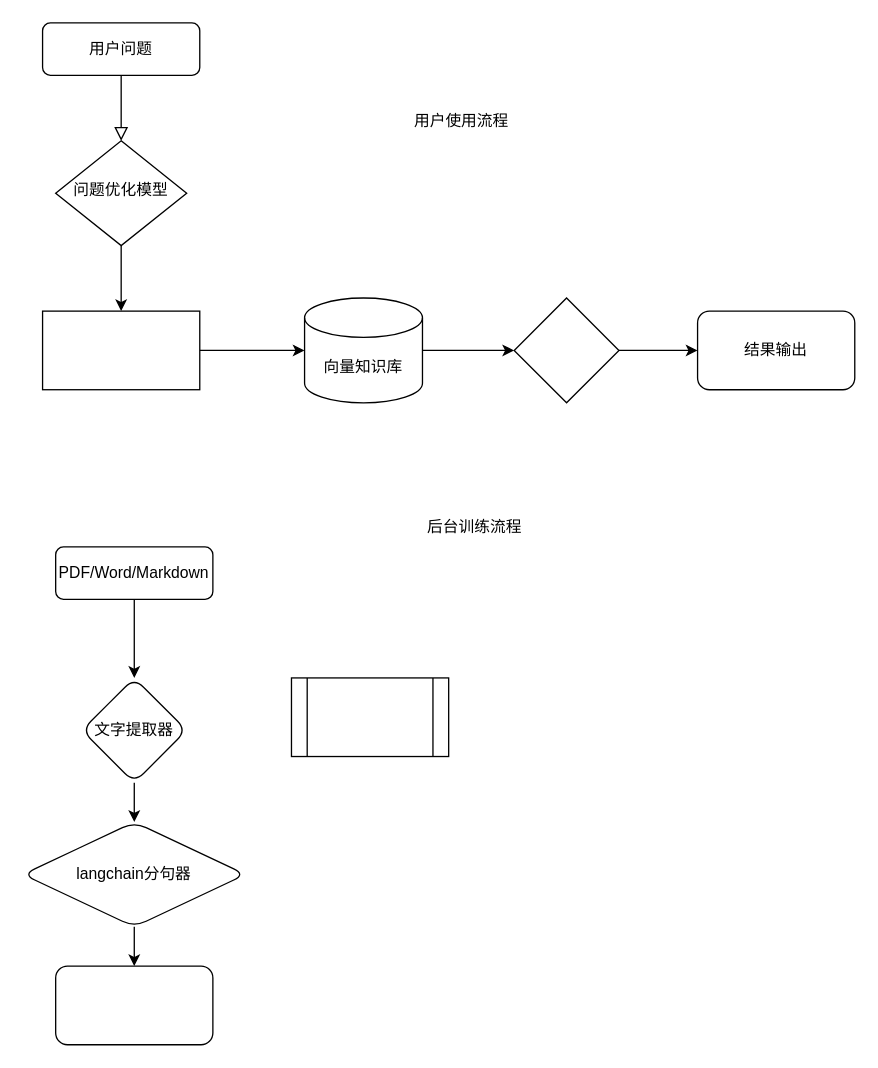
Image size: 878x1068. Some labels were removed from this diagram. Here are the shapes that lost their labels. From the top down, the box of each, then its label:
(41, 310, 200, 390): 指代消除，拓展后的多个问题
(513, 297, 619, 403): 回答模型
(290, 677, 449, 757): 单独把这个提交结果给一个进程Queue异步处理
(54, 965, 213, 1045): Embedding并入库
